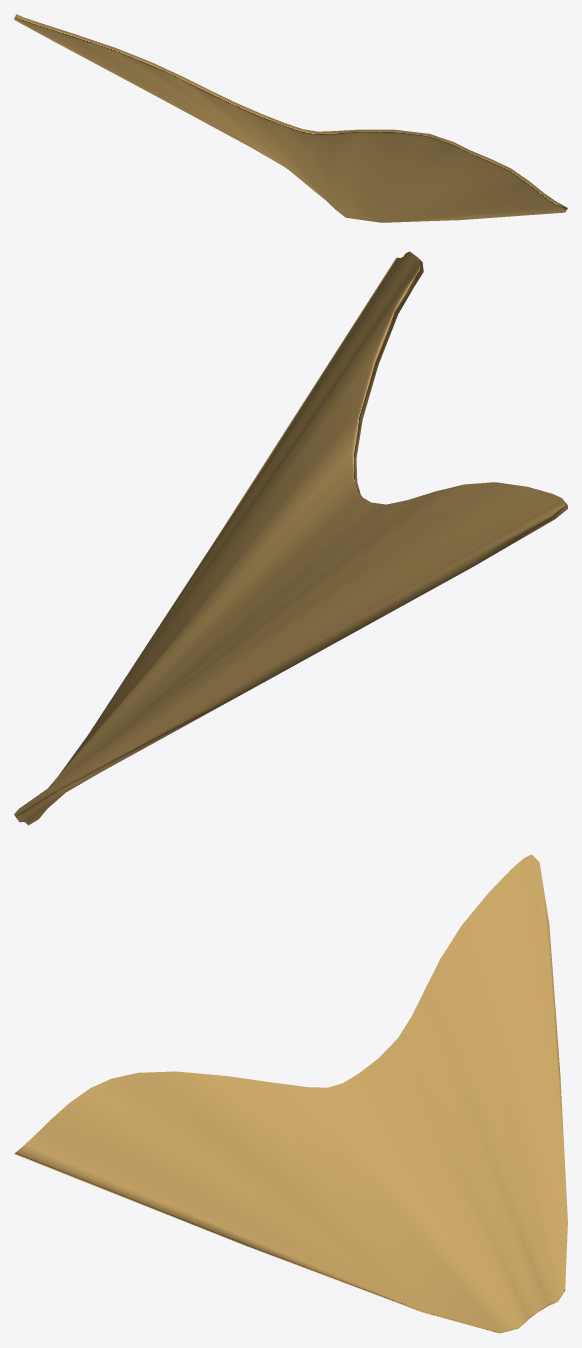
3 views of the same model, one above another, from view 1: azimuth 30°, elevation 25°; view 2: azimuth 150°, elevation 25°; view 3: azimuth 270°, elevation 25° (orthographic). The views are drawn at different scales.
Parts seen in each view (by area): view 1: 左侧骶棘韧带; view 2: 左侧骶棘韧带; view 3: 左侧骶棘韧带.
Boxes of the visible parts, x1,y1,x2,y2 form: 左侧骶棘韧带: (14, 14, 567, 222); 左侧骶棘韧带: (14, 251, 567, 825); 左侧骶棘韧带: (14, 854, 567, 1333).
Size of the model in its own units: 0.0502 by 0.0397 by 0.0653.
